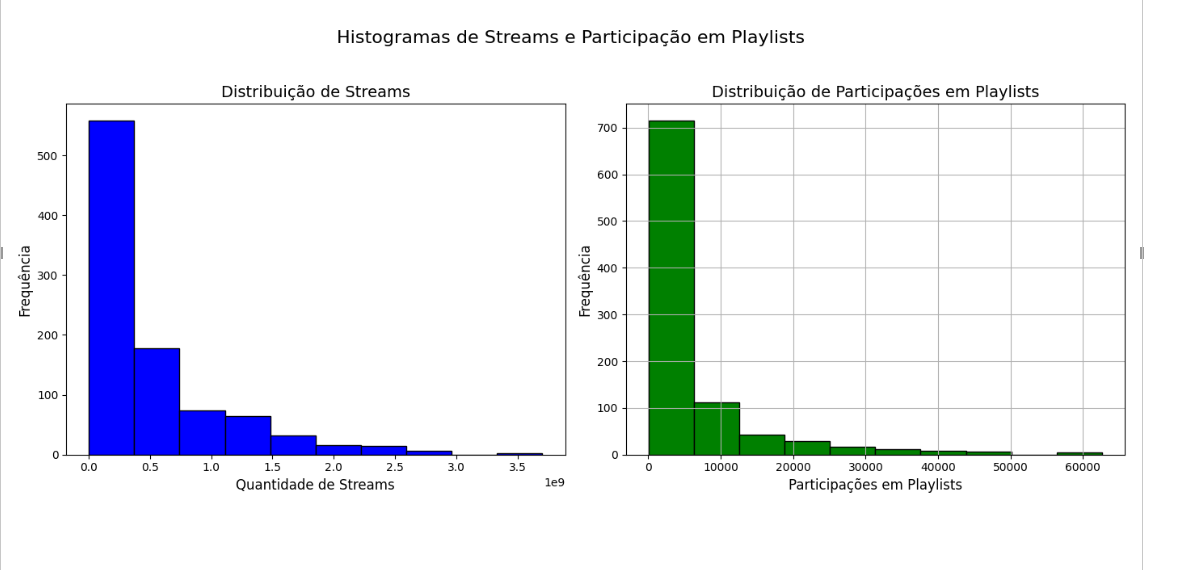

What the dashboard file says about the page in this screenshot:
{"tool":"powerbi","page":{"name":"HIstograma","canvas":[1280,720],"ordinal":4},"visuals":[{"type":"pythonVisual","fields":{"Values":["nova_tabela_unificada1.streams_limpo","Sum(nova_tabela_unificada1.total_playlists)"]},"box":[10.9,0,1103.5,720],"z":0}]}

Visuals, with their boxes on the page's 1280x720 design canvas (x1, y1, x2, y2). These are canvas units, not pixel positions in the 1186x570 screenshot, which may show the page scaled, cropped or inside an application window:
pythonVisual - nova_tabela_unificada1.streams_limpo x Sum(nova_tabela_unificada1.total_playlists): box=[11, 0, 1114, 720]
